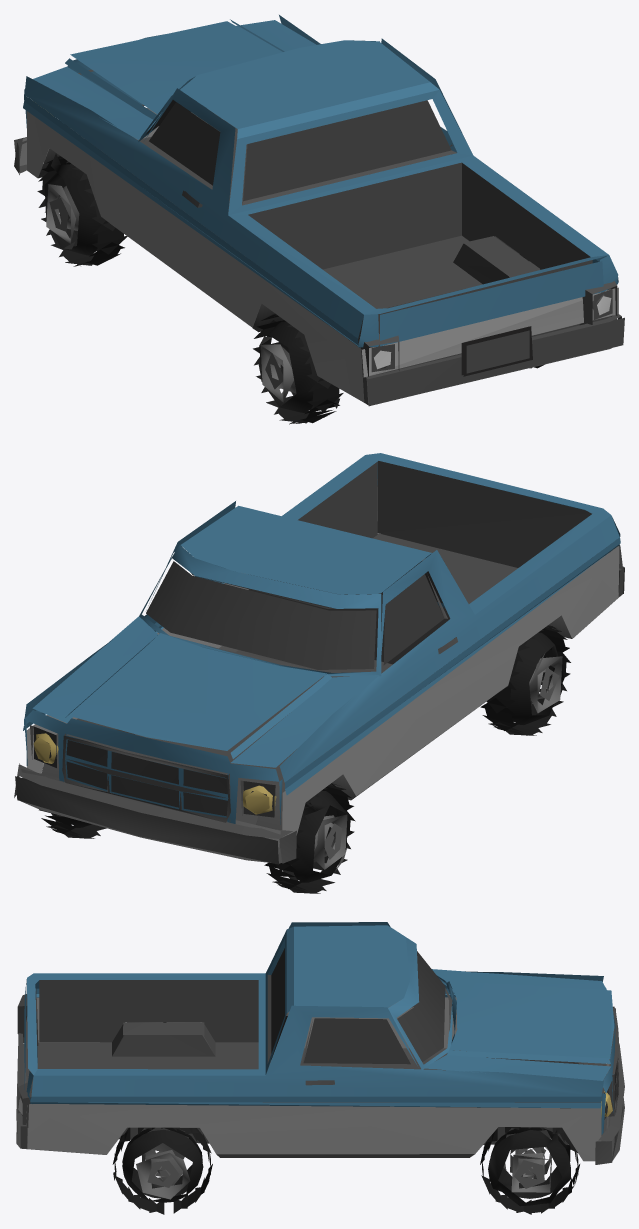
File: pickup.fbx
The picture shows the model from 3 angles, top to bottom: view 1: azimuth 30°, elevation 25°; view 2: azimuth 150°, elevation 25°; view 3: azimuth 270°, elevation 25°; orthographic projection. The views are drawn at different scales.
Parts seen in each view (by area): view 1: BackWheels; view 2: BackWheels; view 3: BackWheels.
Boxes of the visible parts, <box> form: BackWheels: <box>14,15,624,424</box>; BackWheels: <box>14,453,624,893</box>; BackWheels: <box>16,922,624,1214</box>.
Bounding box in the file's own units: 0.448 × 0.3594 × 1.
